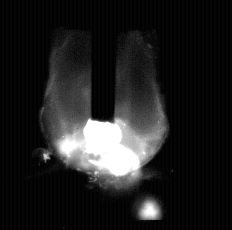arame: (91, 0, 116, 124)
poca: (43, 0, 169, 230)
